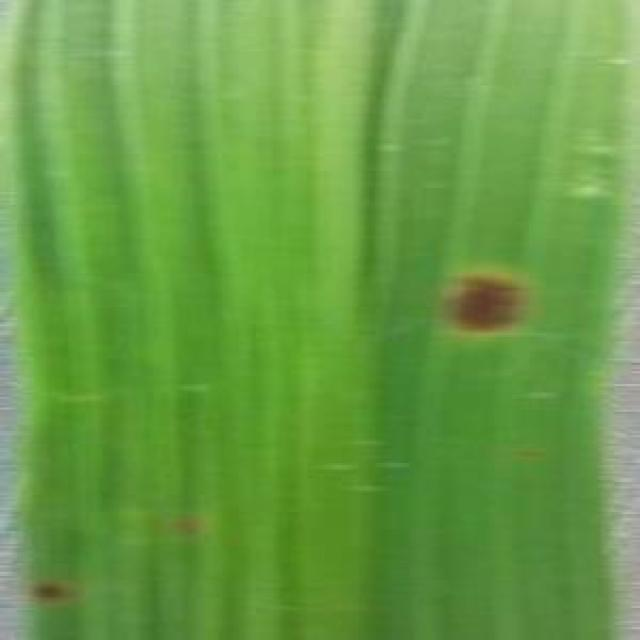Brown_Spot: (436, 255, 533, 356), (155, 495, 218, 546), (27, 571, 73, 618)
